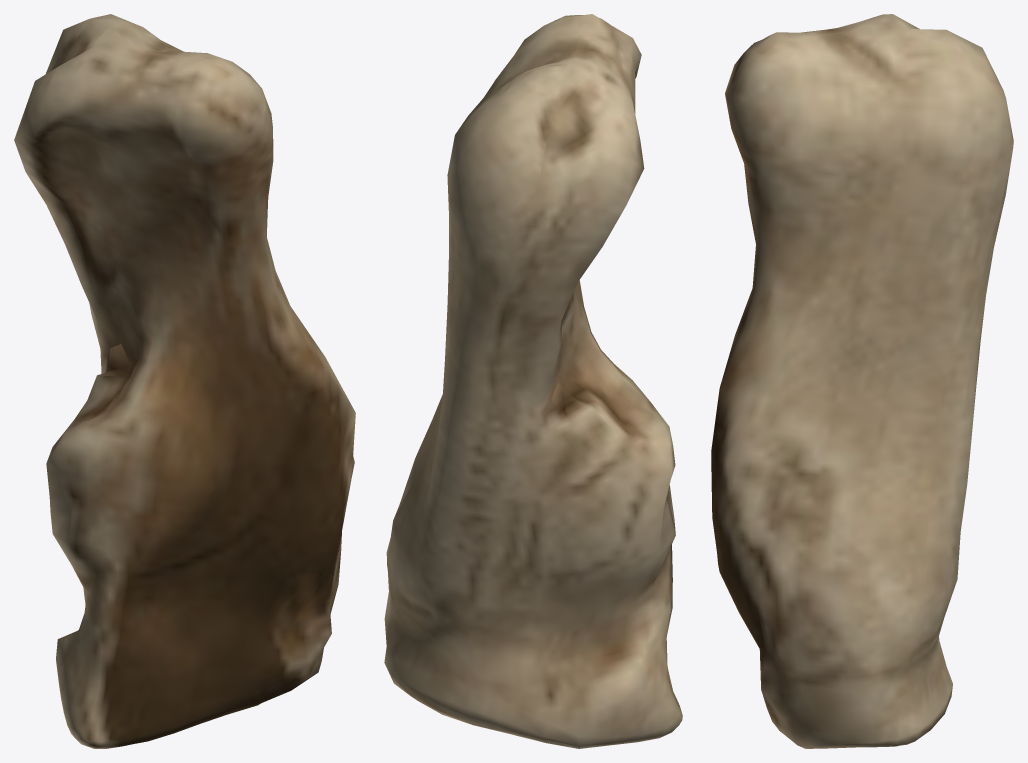
File: Calcaneus.glb
3 views of the same model, side by side, from view 1: azimuth 30°, elevation 25°; view 2: azimuth 150°, elevation 25°; view 3: azimuth 270°, elevation 25° (orthographic).
Visible parts, largest first — view 1: L_Bck_Calcaneus; view 2: L_Bck_Calcaneus; view 3: L_Bck_Calcaneus.
Part boxes in pixels (x1,y1,x2,y2): L_Bck_Calcaneus: (14, 14, 355, 748); L_Bck_Calcaneus: (384, 14, 682, 748); L_Bck_Calcaneus: (711, 14, 1013, 748).
Size of the model in its own units: 0.0579 by 0.1365 by 0.0551.
Materials: 1 (1 with a texture image).
